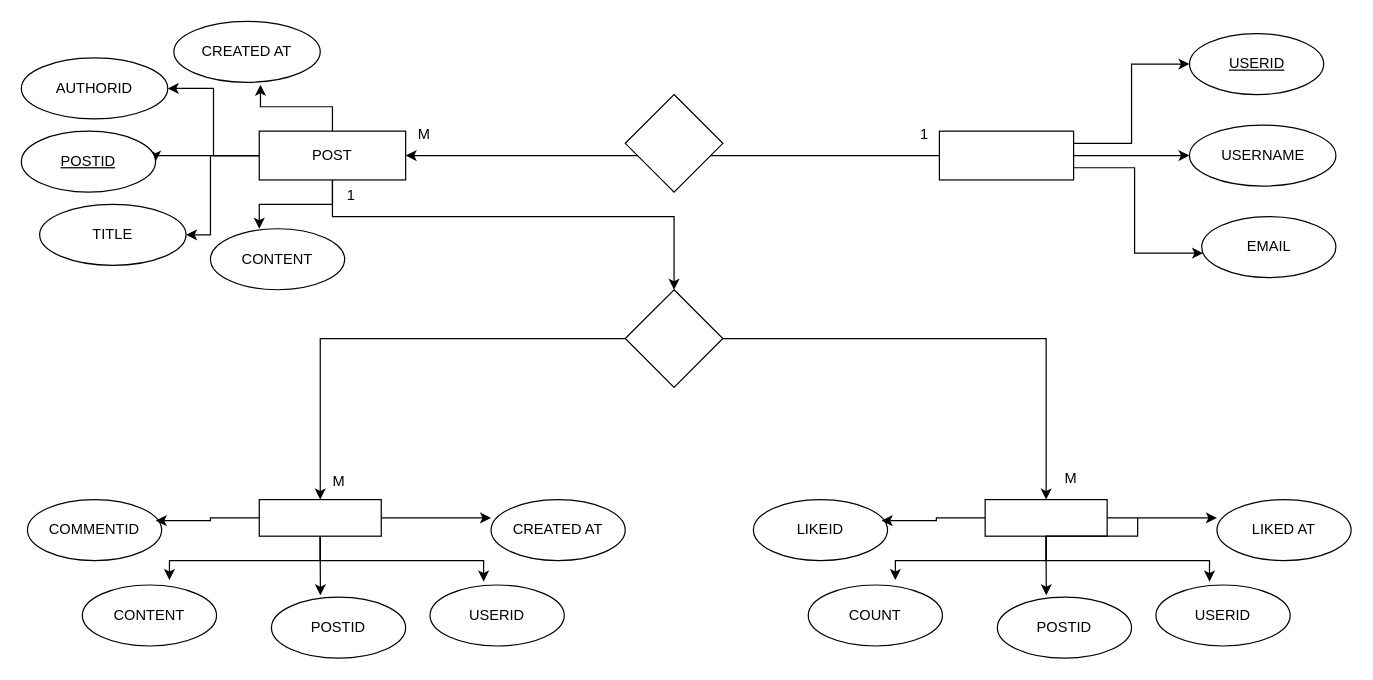
Some shapes in this 1373 by 680 pixel diagram are drawn without their labels. Each missing label, with the centre of its shape:
COMMENT: the point at 319,517
HAS: the point at 673,338
LIKES: the point at 1045,517
PUBLISH: the point at 673,142
USER: the point at 1006,155
